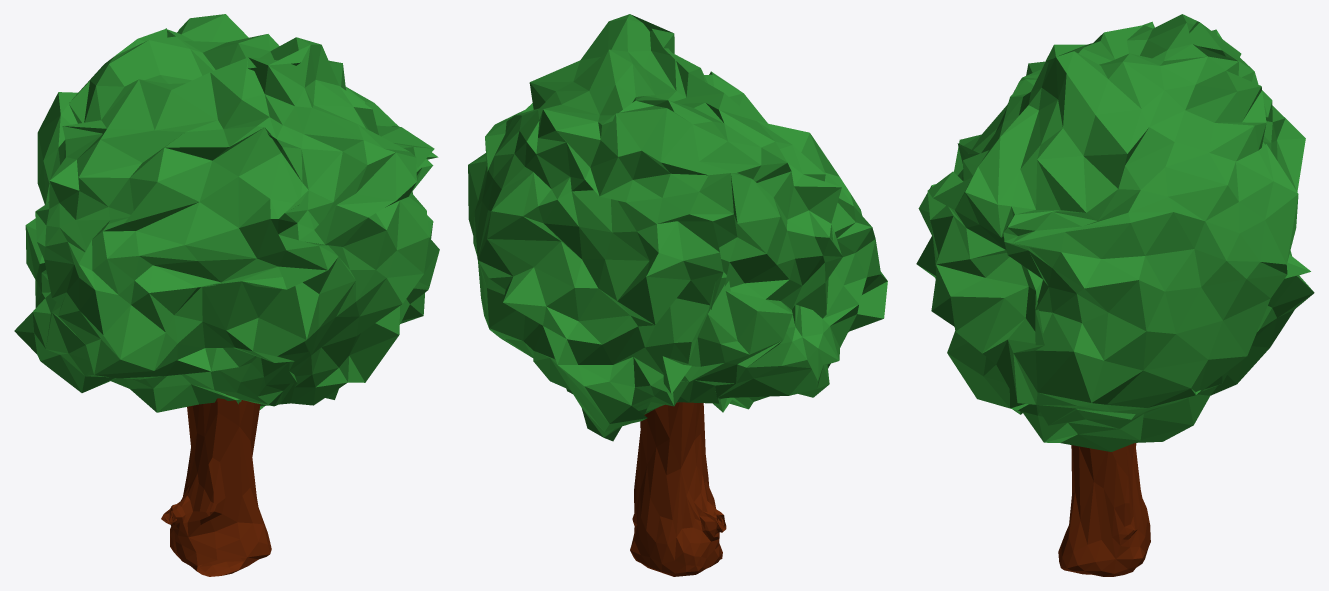
Rendered from tree.01.gltf.
3 renders of one model, left to right at view 1: azimuth 30°, elevation 25°; view 2: azimuth 150°, elevation 25°; view 3: azimuth 270°, elevation 25°, orthographic. The views are drawn at different scales.
Parts seen in each view (by area): view 1: Tree.01; view 2: Tree.01; view 3: Tree.01.
Part boxes in pixels (left/top/right/bottom): Tree.01: left=14, top=14, right=439, bottom=576; Tree.01: left=468, top=14, right=887, bottom=576; Tree.01: left=916, top=14, right=1314, bottom=576.
Bounding box in the file's own units: 2.67 × 3.53 × 2.33.
